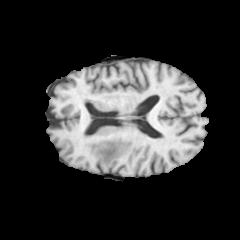glioma: (85, 134, 134, 165)
